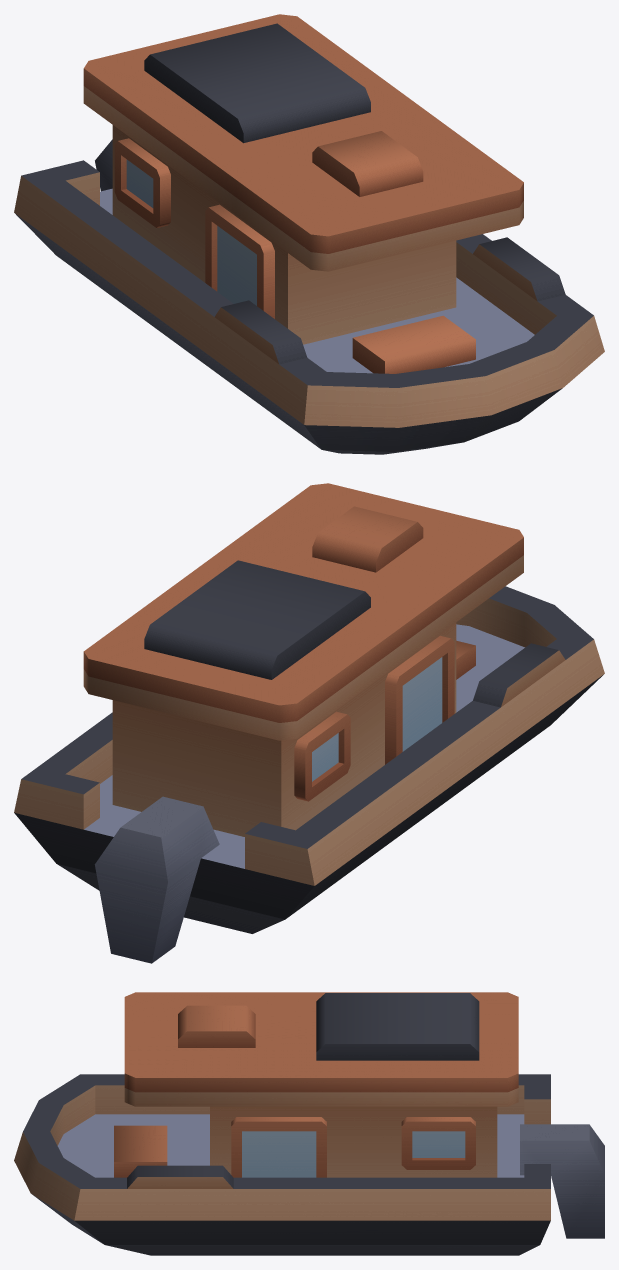
File: boat_house_b.glb
The picture shows the model from 3 angles, top to bottom: view 1: azimuth 30°, elevation 25°; view 2: azimuth 150°, elevation 25°; view 3: azimuth 270°, elevation 25°; orthographic projection. The views are drawn at different scales.
Visible parts, largest first — view 1: boat-house-b; view 2: boat-house-b; view 3: boat-house-b.
Part boxes in pixels (x1=…): boat-house-b: x1=14, y1=14, x2=604, y2=454; boat-house-b: x1=14, y1=483, x2=604, y2=963; boat-house-b: x1=14, y1=992, x2=604, y2=1255.
Size of the model in its own units: 2.68 by 2.2 by 5.55.
1 material, 1 textured.
